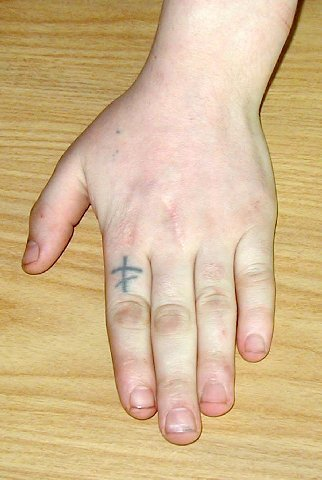tatu9_krest: (105, 255, 148, 293)
